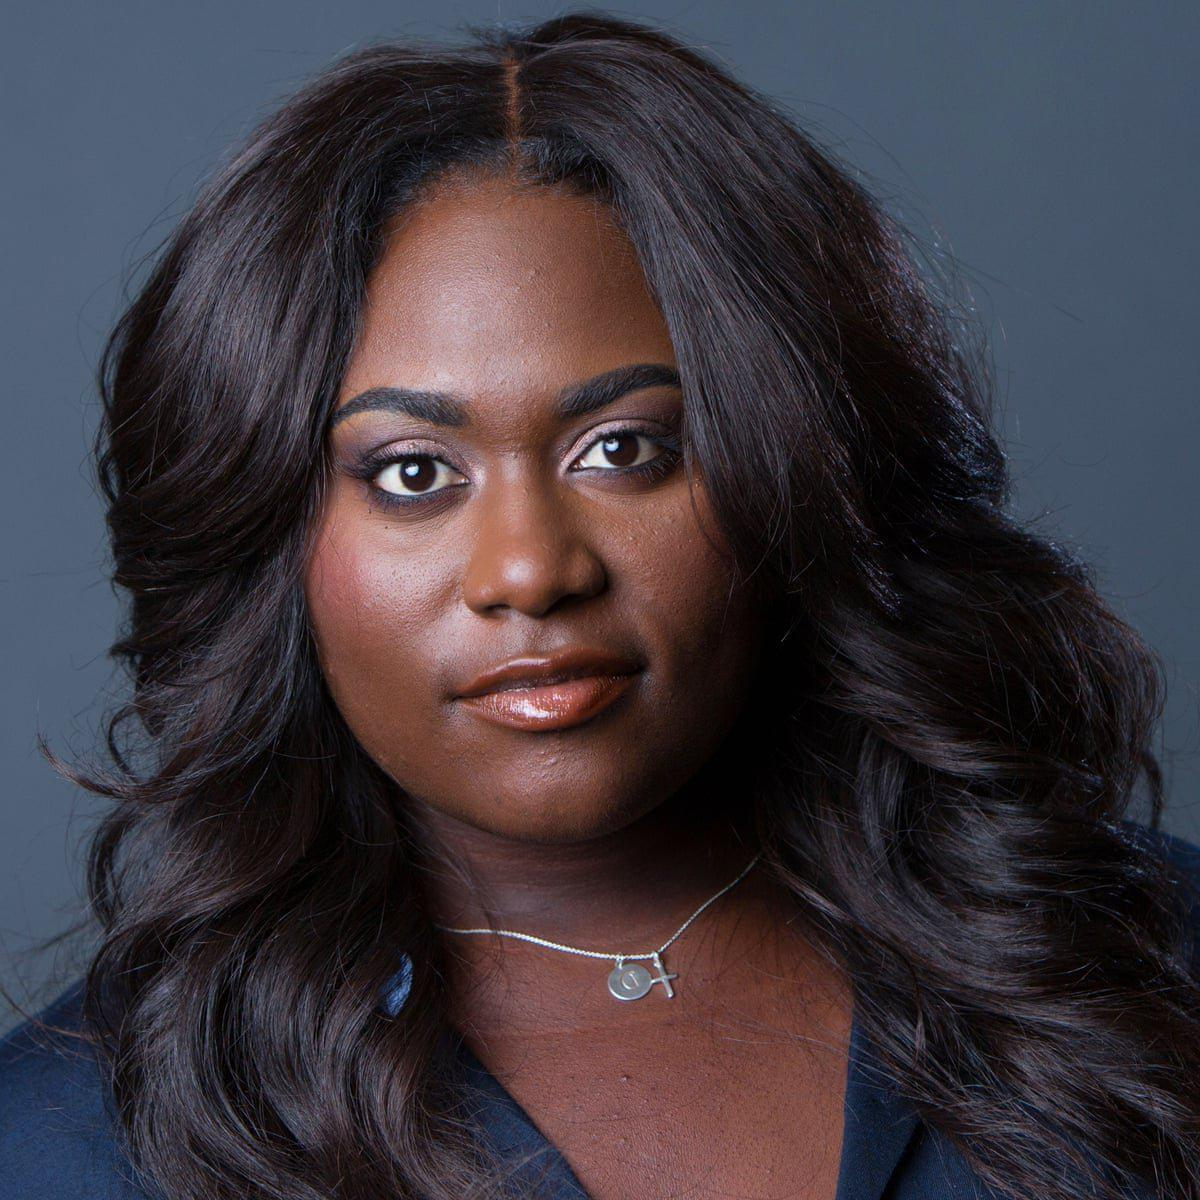Sober: (316, 218, 733, 842)
